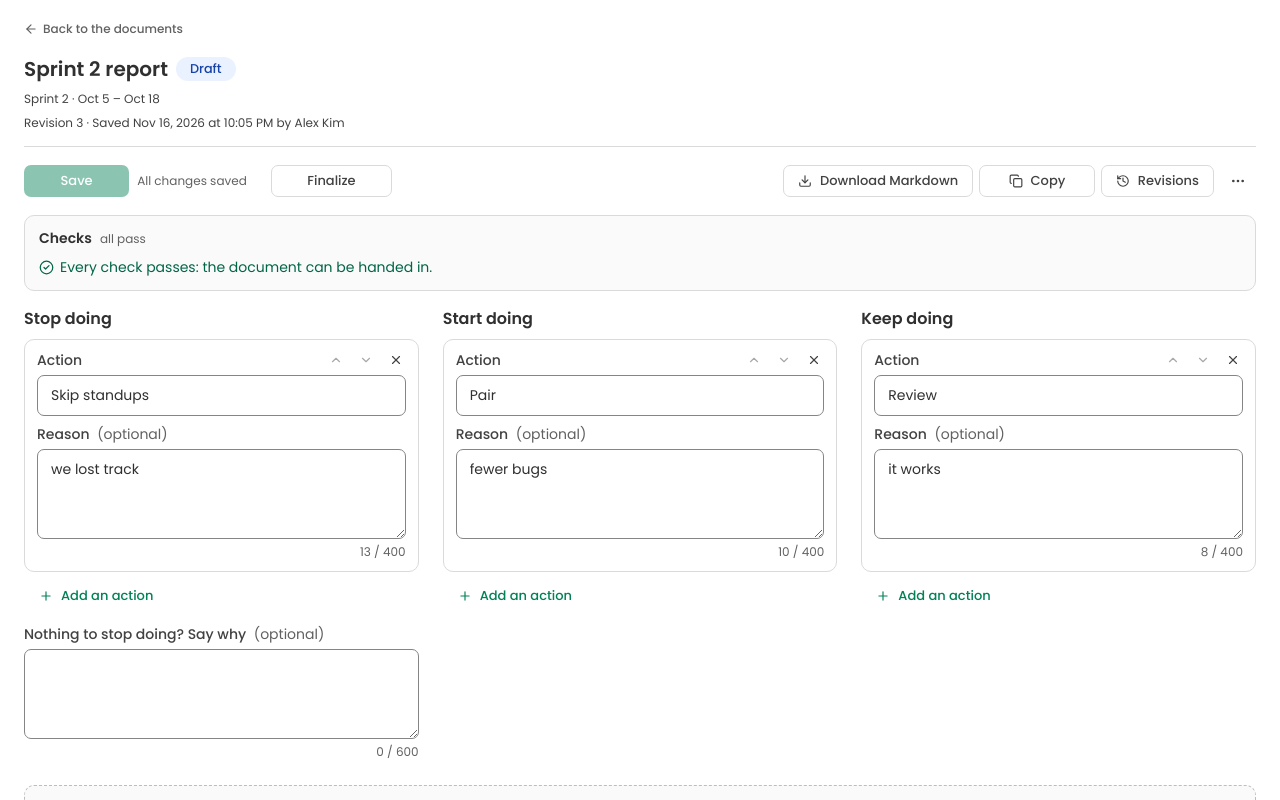
Test: DocumentPage: a team member on the head › offers to compare the revision a save replaced with the new one
This screenshot has width=1280, height=800.
Type "!" into the field named "Action 1, Start doing" at (640, 396), box [456,375,824,416]
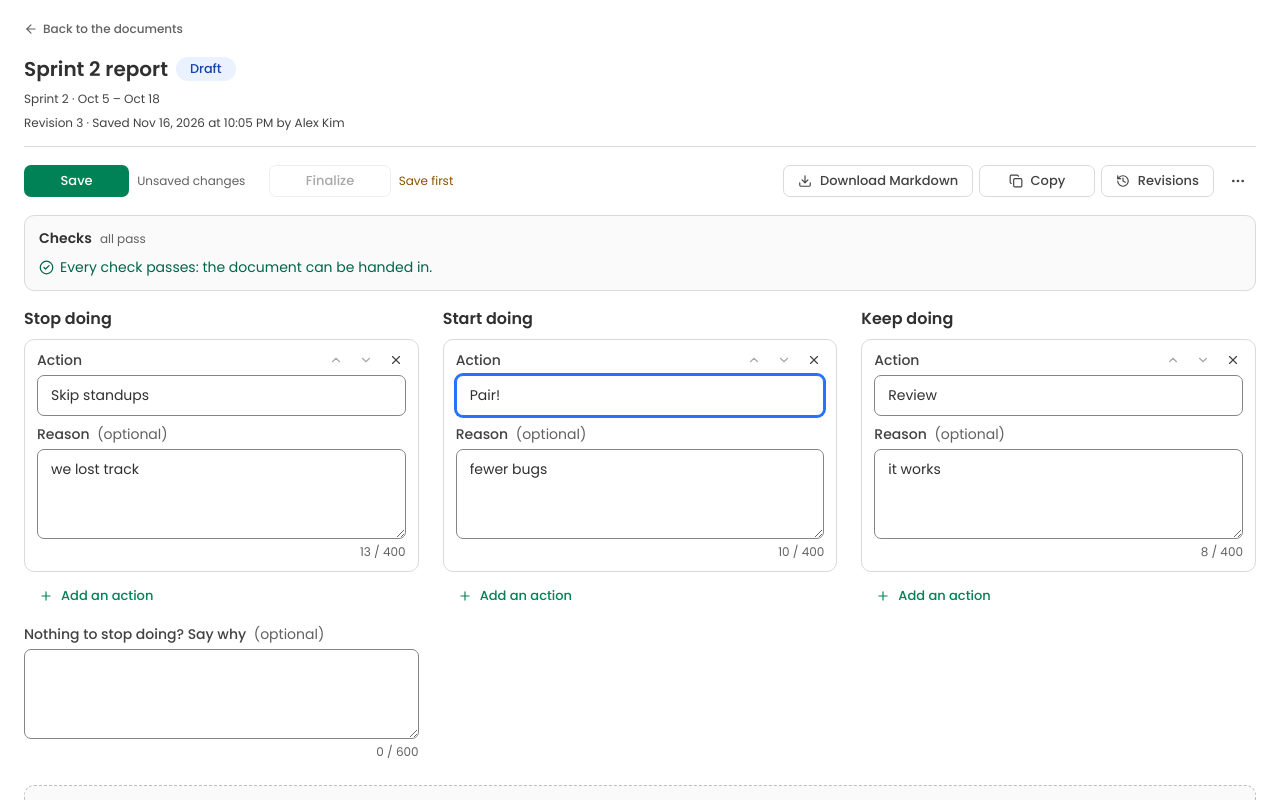
Click the button "Save" at (77, 181), box [24,165,129,197]
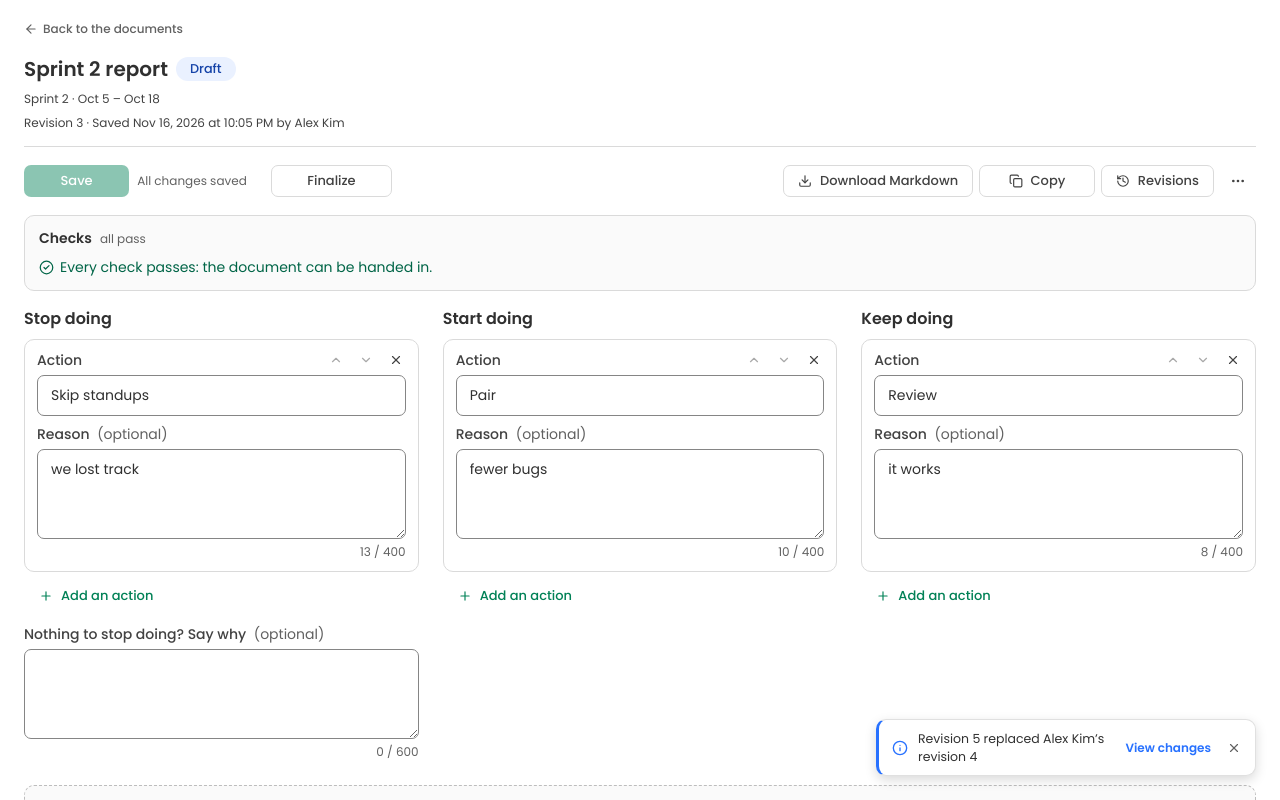
Result: the text "Revision 5 replaced Alex Kim’s revision 4" is shown at [918,730,1111,765]
Click the button "View changes" at (1168, 748), box [1121,736,1215,758]
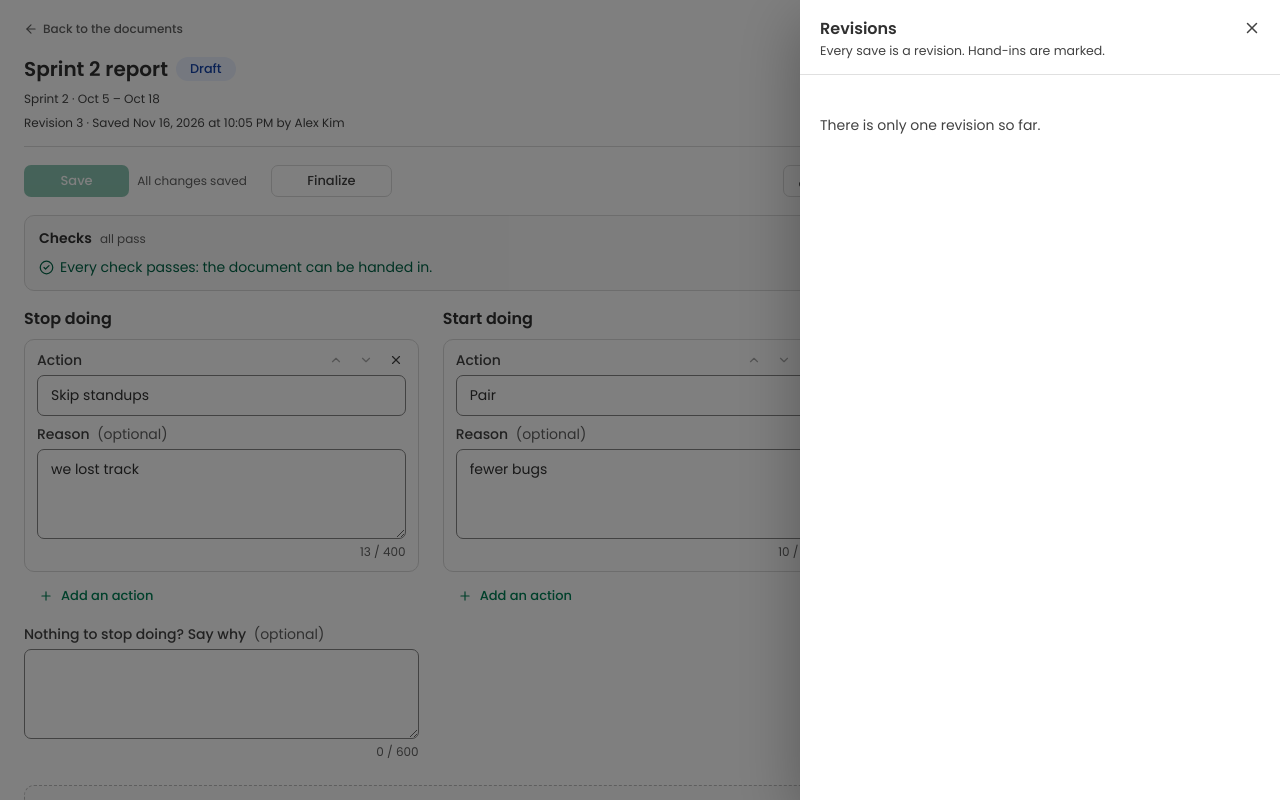
Result: the dialog "Revisions" is shown at [800,0,1279,799]
